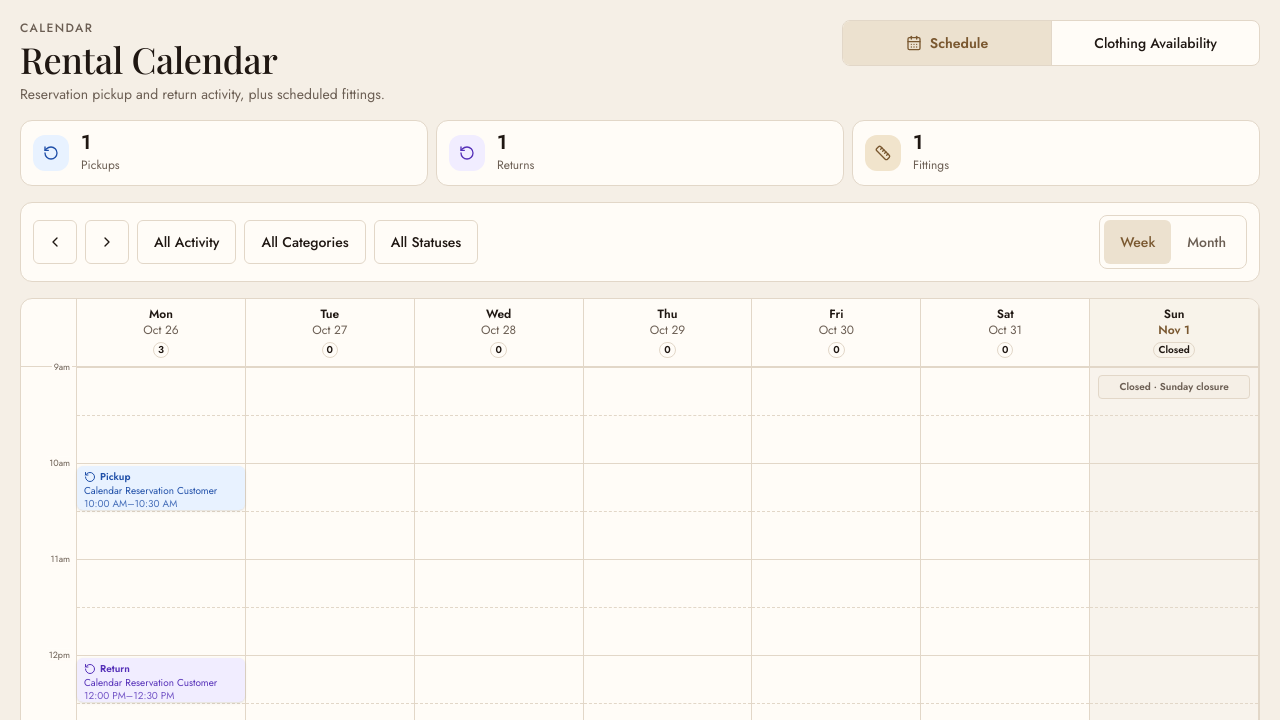
Test case: CalendarSchedulePage production details and states › refetches exact week boundaries and offers Today beside the view switcher when today is off-screen
Expected: the button "Today" is not shown
Step 1. Click the button named "Previous period" → (55, 242), box [33,220,77,264]
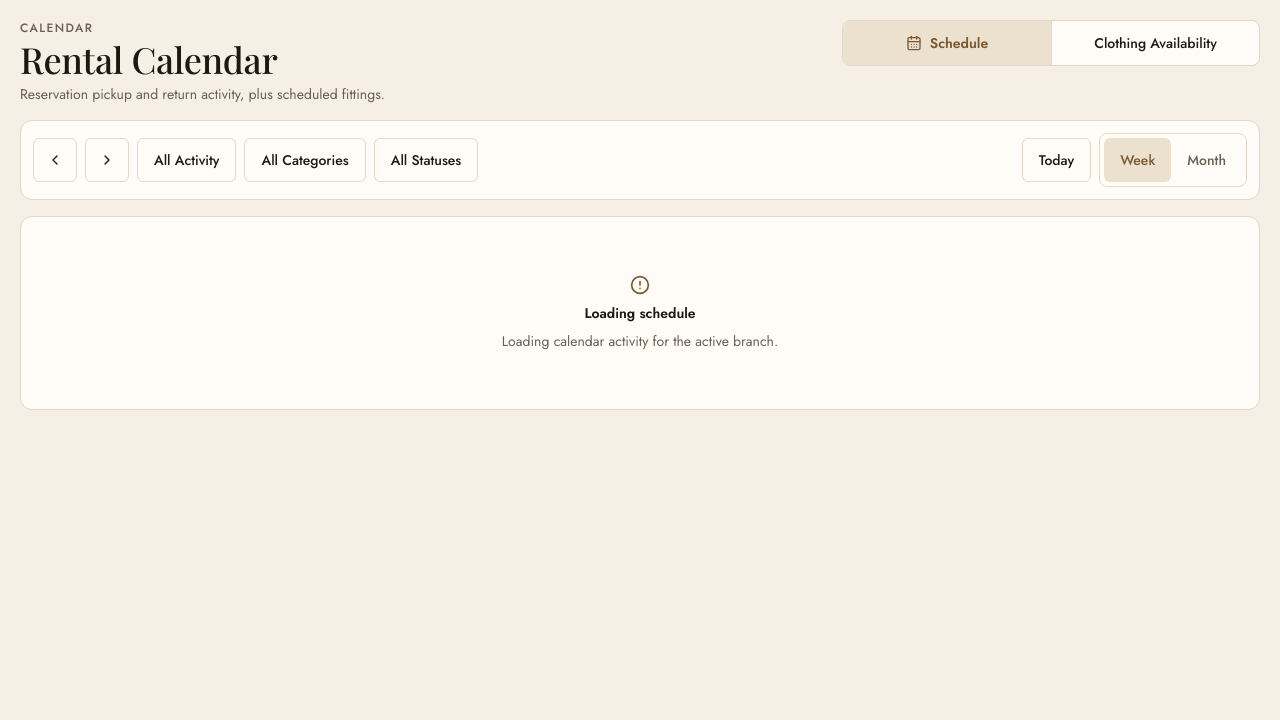
Expected: the button with aria-label "Week view" is shown, [1104,138,1171,182]
Expected: the button with aria-label "Month view" is shown, [1171,138,1242,182]
Step 2. Click the button "Today" → (1056, 160), box [1022,138,1091,182]
(page scrolled)
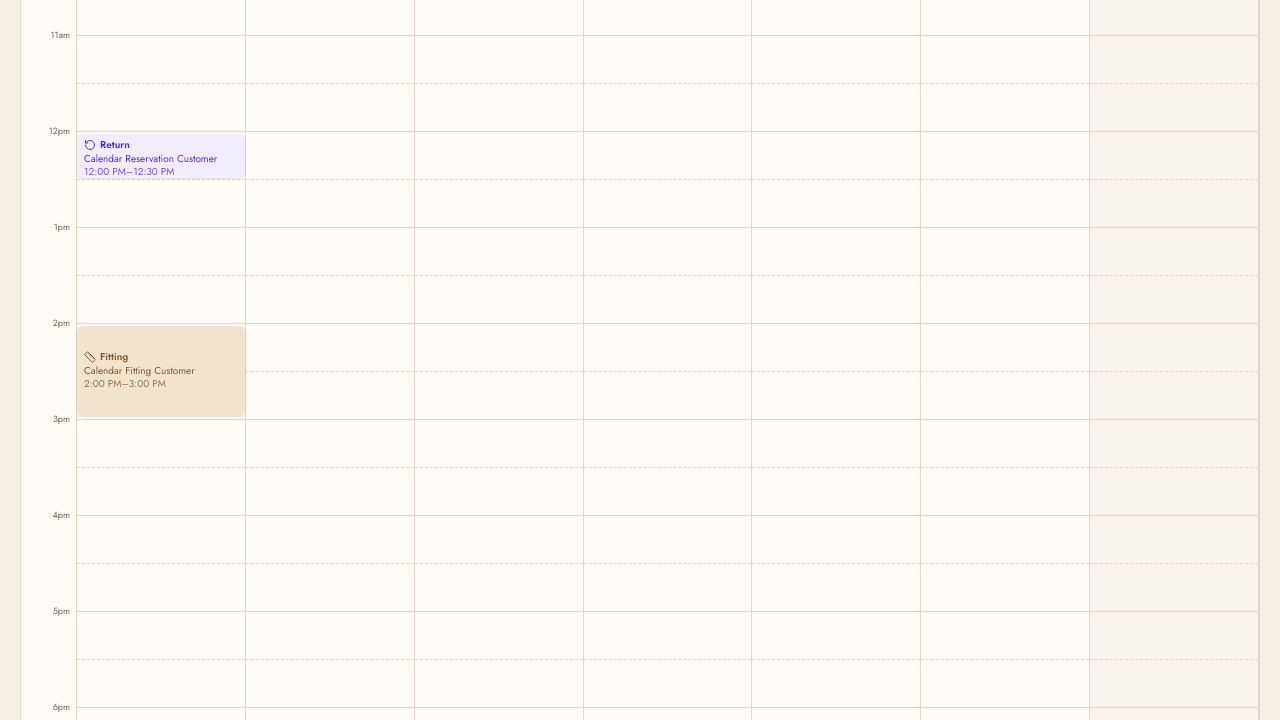
Expected: the button "Today" is gone
